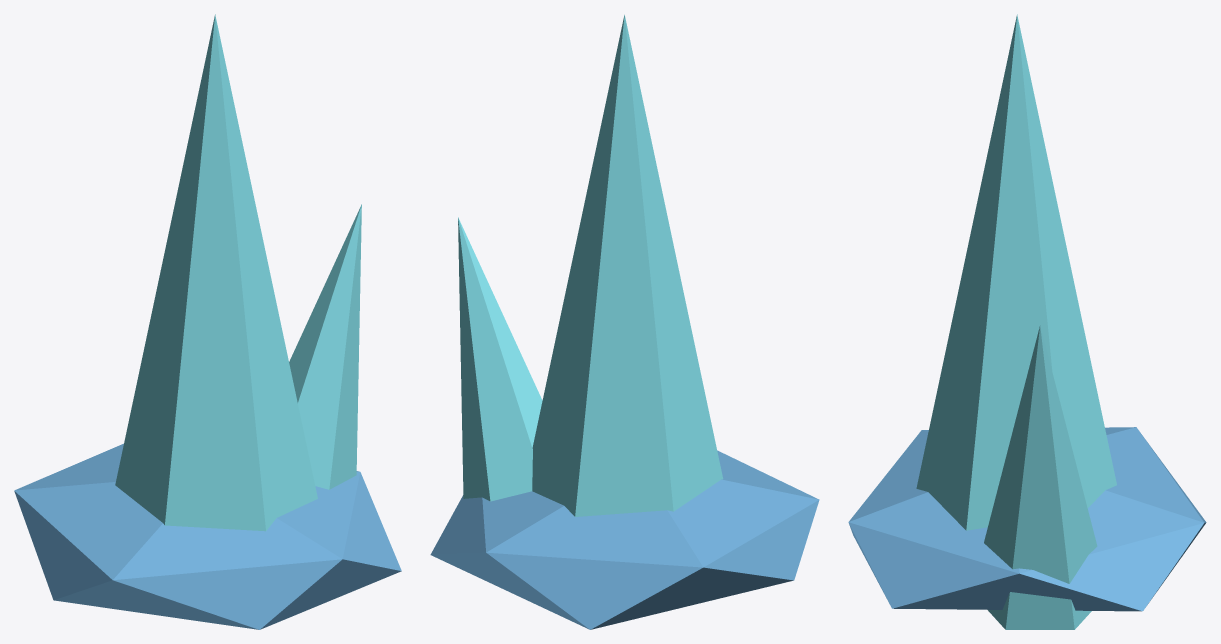
The model's file is crystal_large.fbx.
The picture shows the model from 3 angles, left to right: view 1: azimuth 30°, elevation 25°; view 2: azimuth 150°, elevation 25°; view 3: azimuth 270°, elevation 25°; orthographic projection. The views are drawn at different scales.
Parts seen in each view (by area): view 1: crystal_large; view 2: crystal_large; view 3: crystal_large.
Boxes of the visible parts, left/top/right/bottom form: crystal_large: left=14, top=14, right=401, bottom=629; crystal_large: left=430, top=15, right=819, bottom=629; crystal_large: left=848, top=14, right=1206, bottom=629.
Bounding box in the file's own units: 1.62 × 2.76 × 1.56.
